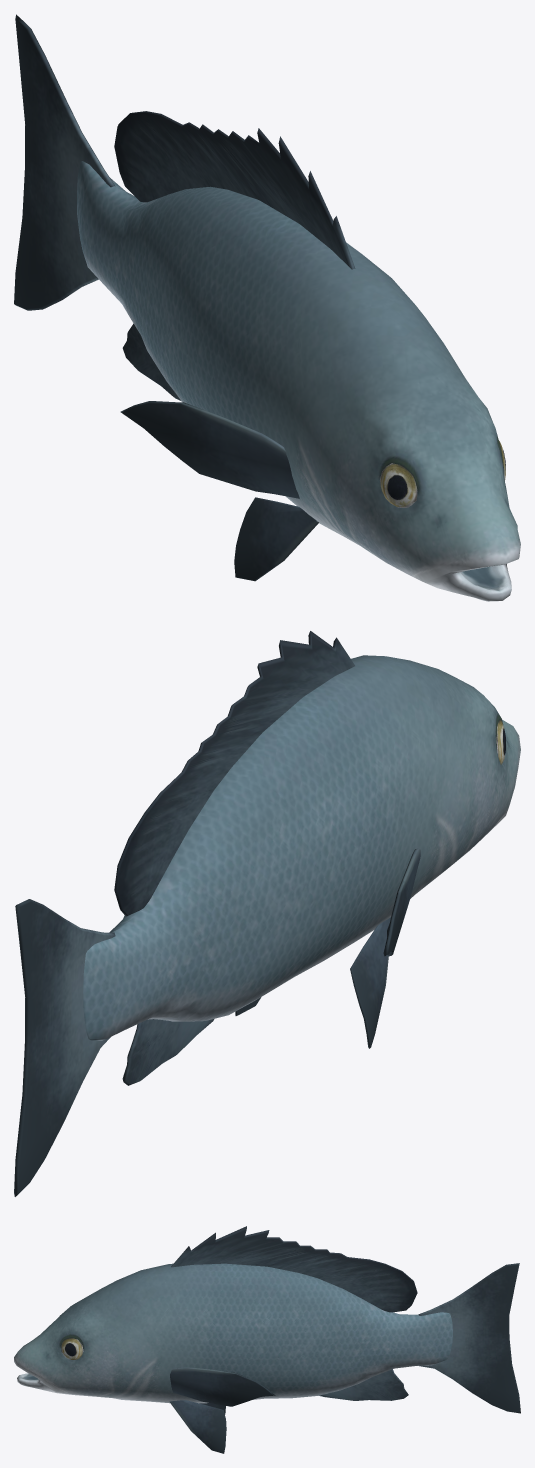
Rendered from frost_minnow.glb.
The picture shows the model from 3 angles, top to bottom: view 1: azimuth 30°, elevation 25°; view 2: azimuth 150°, elevation 25°; view 3: azimuth 270°, elevation 25°; orthographic projection. The views are drawn at different scales.
Visible parts, largest first — view 1: fish_vertColor_low; view 2: fish_vertColor_low; view 3: fish_vertColor_low.
Boxes of the visible parts, x1,y1,x2,y2 form: fish_vertColor_low: [14, 14, 520, 601]; fish_vertColor_low: [14, 631, 520, 1196]; fish_vertColor_low: [14, 1226, 520, 1453].
Size of the model in its own units: 12.55 by 18.45 by 40.16.
1 material, 1 textured.
